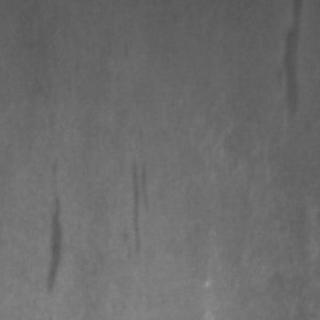inclusion: (274, 0, 306, 124), (38, 180, 70, 292), (120, 154, 152, 254)
